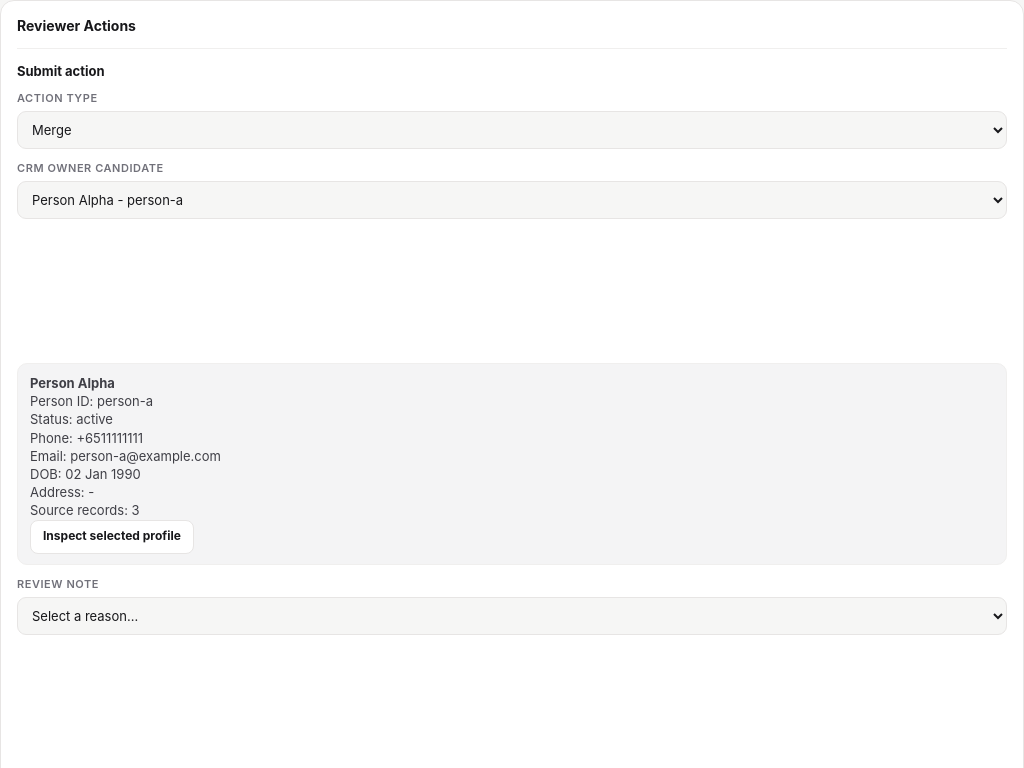
it: ReviewActionsPanel CRM candidates › loads named candidate summaries and updates the inspected profile on selection
This screenshot has width=1024, height=768.
Select "Person Beta - person-b" in the dropdown labelled "CRM owner candidate": (512, 200) [17,181,1007,219]
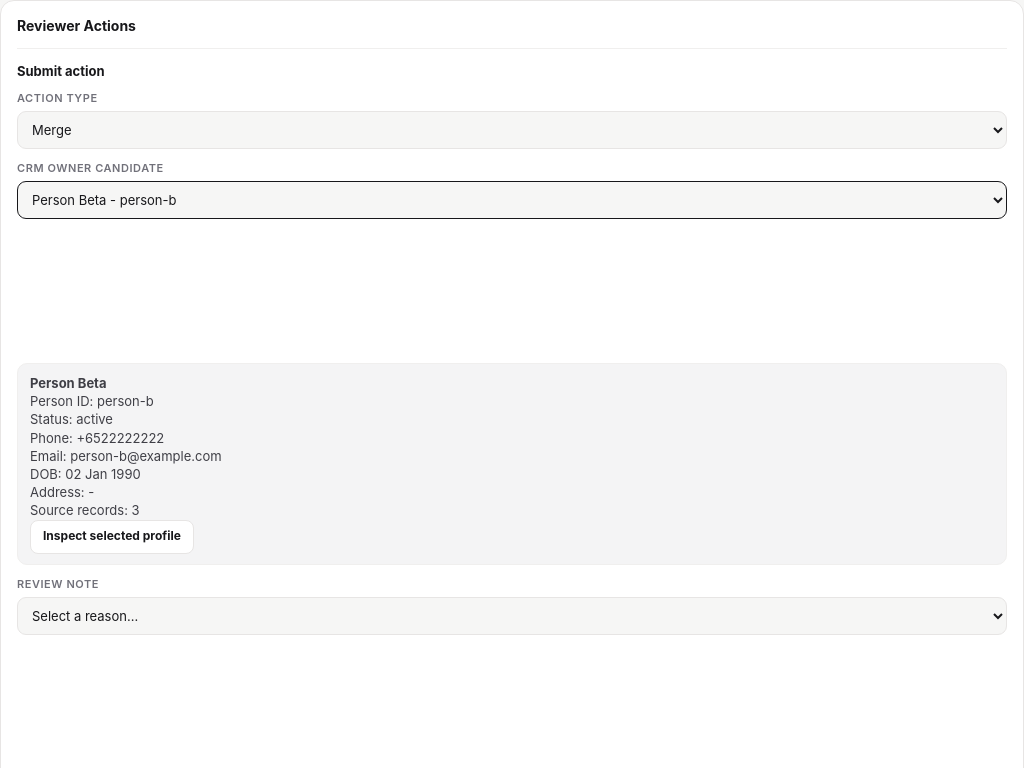
Result: the text "Phone: +6522222222" is shown at [30,430,164,446]
Result: the text "Person ID: person-b" is shown at [30,393,154,409]
